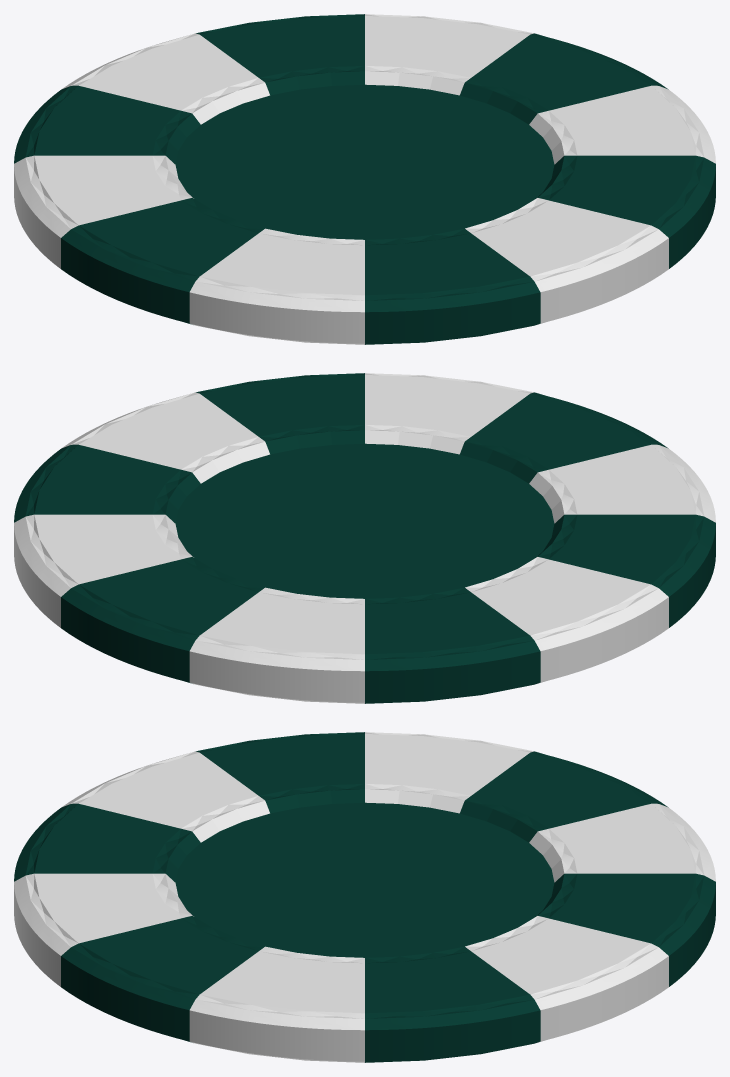
File: poker_chip.glb
3 views of the same model, one above another, from view 1: azimuth 30°, elevation 25°; view 2: azimuth 150°, elevation 25°; view 3: azimuth 270°, elevation 25° (orthographic).
Visible parts, largest first — view 1: poker_chip; view 2: poker_chip; view 3: poker_chip.
Part boxes in pixels (bbox=[...]): poker_chip: bbox=[14, 14, 715, 344]; poker_chip: bbox=[14, 373, 715, 703]; poker_chip: bbox=[14, 732, 715, 1062].
Size of the model in its own units: 2 by 0.1503 by 2.
